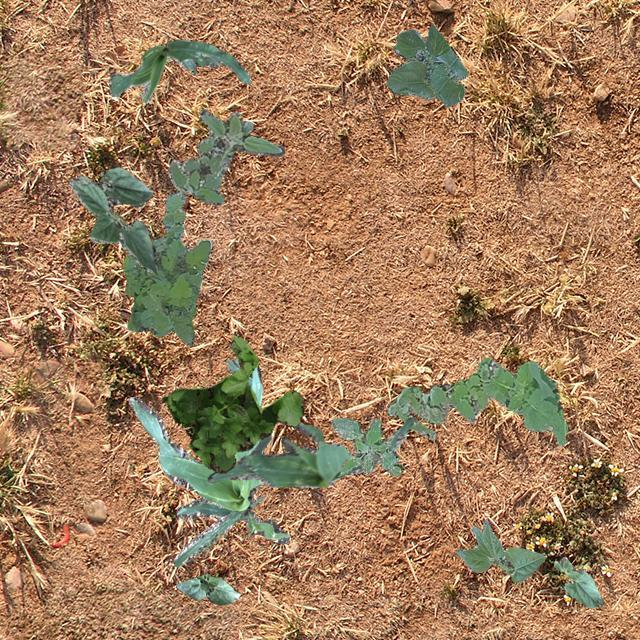crop: (128, 358, 290, 566), (206, 416, 412, 486), (68, 166, 156, 272), (108, 38, 248, 104), (386, 22, 466, 106), (454, 518, 544, 582), (552, 556, 602, 606), (174, 572, 240, 604)
weed: (162, 334, 304, 472), (386, 356, 566, 446), (122, 190, 210, 344), (166, 108, 284, 204), (329, 416, 402, 474)
